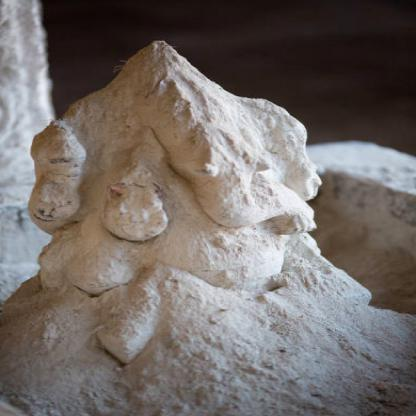Sedimentary_Limestone: (16, 28, 355, 416)
